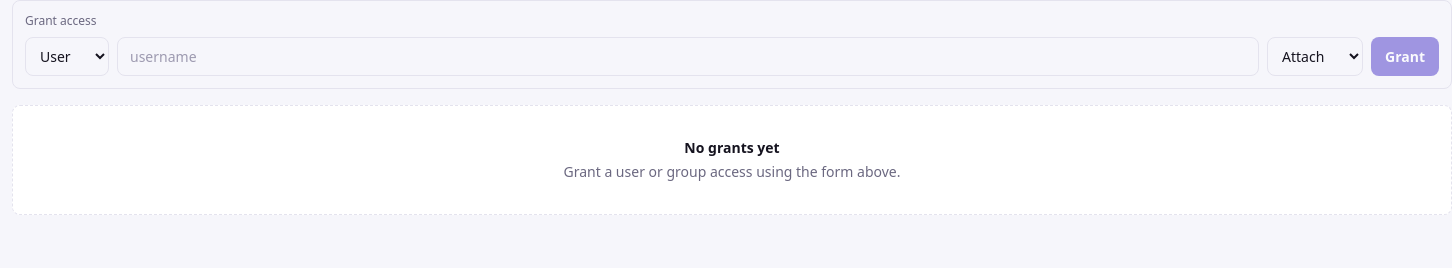
Test: PermissionsEditor — grant › surfaces a grant error (e.g. 400 invalid level)
Expected: the text "No grants yet" is shown, x1=684 y1=138 x2=780 y2=157
Type "bob" into the field named "principal id" at x=688, y=56, box x1=117 y1=37 x2=1259 y2=76
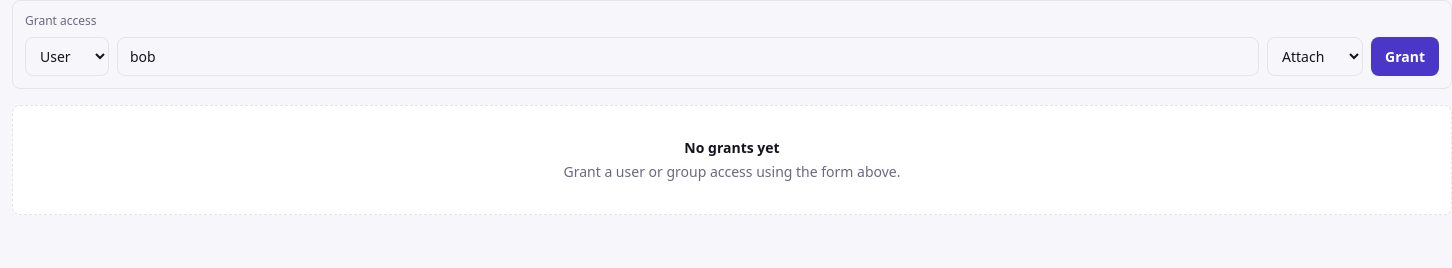
Click the button "Grant" at x=1405, y=56, box x1=1371 y1=37 x2=1439 y2=76
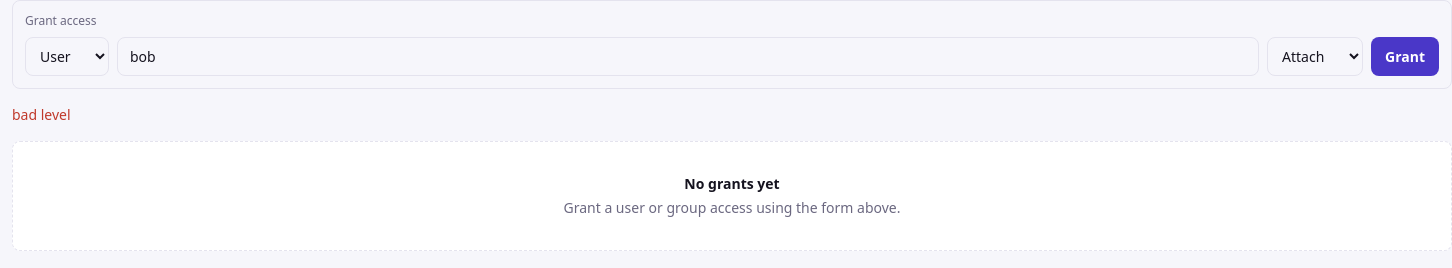
Expected: the text "bad level" is shown, x1=12 y1=105 x2=71 y2=124
